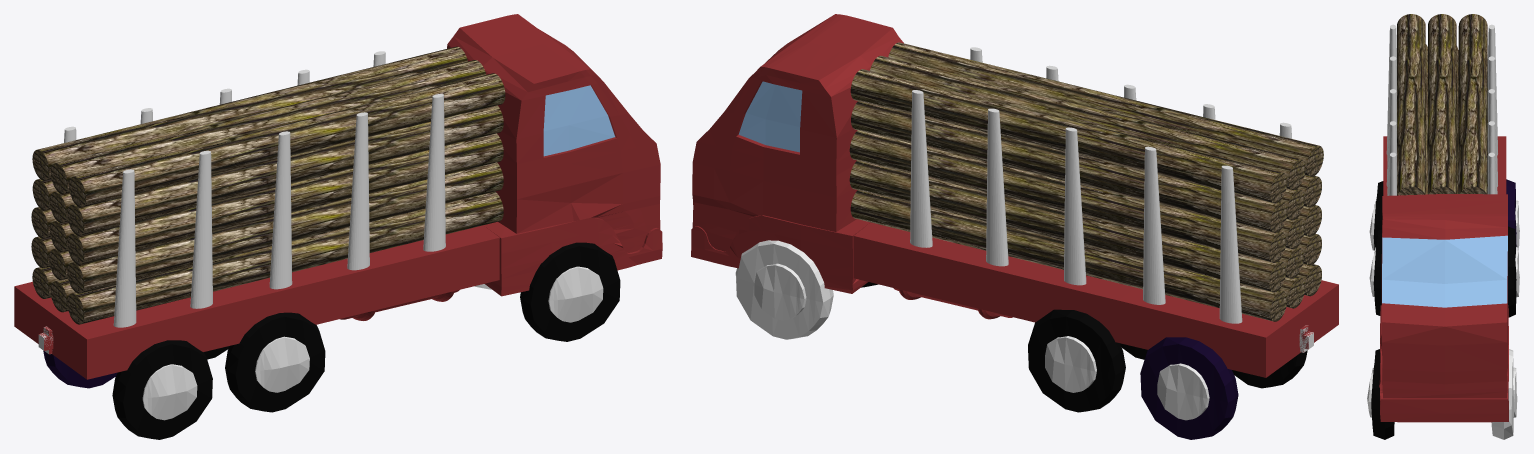
File: Camion.fbx
3 renders of one model, left to right at view 1: azimuth 30°, elevation 25°; view 2: azimuth 150°, elevation 25°; view 3: azimuth 270°, elevation 25°, orthographic. The views are drawn at different scales.
Visible parts, largest first — view 1: Cylinder.002, Plataforma, Cylinder.011, RAden.2.002, RAden.2.001, Rueda1.001, Rueda.1.002, Rueda.002, Rueda.001, RAden.2.004; view 2: Cylinder.002, Plataforma, Cylinder.011, RAden.2.004, RAden.2.003, Rueda1.002, Rueda.004, Rueda.1.001, Rueda.003, RAden.2.002; view 3: Plataforma, Cylinder.002, Cylinder.011, Rueda1.001, RAden.2.003, Rueda1.002, RAden.2.001, RAden.2.004, RAden.2.002, Rueda.003, Rueda.1.001, Rueda.1.002 (+3 smaller).
Boxes of the visible parts, x1,y1,x2,y2 form: Cylinder.002: [31, 46, 505, 324]; Plataforma: [14, 14, 662, 379]; Cylinder.011: [64, 51, 445, 327]; RAden.2.002: [112, 340, 212, 439]; RAden.2.001: [225, 312, 325, 412]; Rueda1.001: [520, 242, 620, 341]; Rueda.1.002: [548, 266, 603, 322]; Rueda.002: [142, 364, 197, 420]; Rueda.001: [255, 336, 309, 392]; RAden.2.004: [43, 351, 117, 388]; Cylinder.002: [849, 42, 1323, 321]; Plataforma: [691, 14, 1338, 377]; Cylinder.011: [910, 47, 1291, 323]; RAden.2.004: [1140, 337, 1238, 439]; RAden.2.003: [1028, 309, 1125, 412]; Rueda1.002: [735, 240, 833, 339]; Rueda.004: [1157, 363, 1209, 420]; Rueda.1.001: [754, 263, 806, 320]; Rueda.003: [1045, 336, 1096, 392]; RAden.2.002: [1232, 350, 1307, 388]; Plataforma: [1379, 136, 1508, 422]; Cylinder.002: [1397, 14, 1487, 195]; Cylinder.011: [1386, 24, 1497, 195]; Rueda1.001: [1371, 349, 1394, 439]; RAden.2.003: [1508, 226, 1516, 317]; Rueda1.002: [1491, 349, 1513, 439]; RAden.2.001: [1373, 228, 1381, 315]; RAden.2.004: [1506, 179, 1516, 246]; RAden.2.002: [1373, 181, 1383, 249]; Rueda.003: [1515, 247, 1519, 297]; Rueda.1.001: [1513, 367, 1517, 417]; Rueda.1.002: [1367, 368, 1373, 417].
Size of the model in its own units: 451 by 199 by 121.
